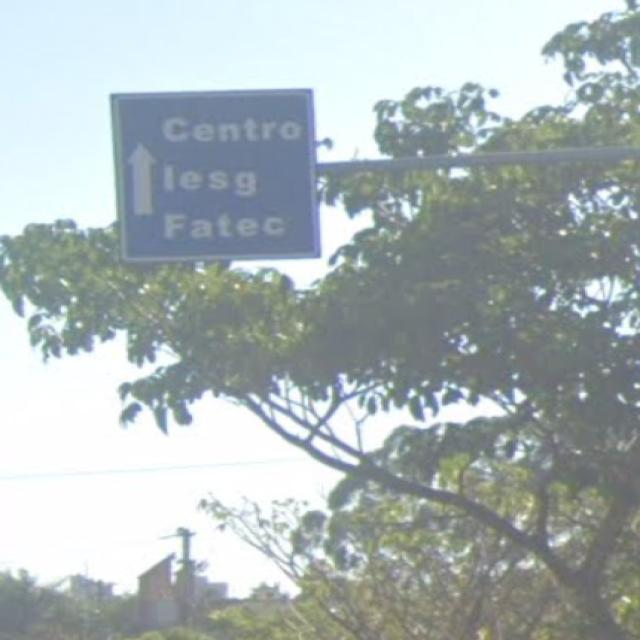indication: (84, 72, 345, 278)
